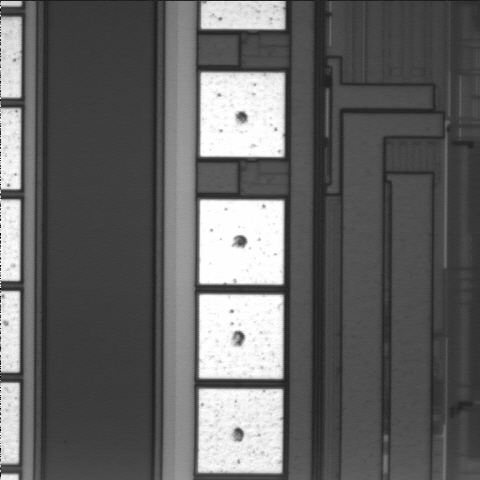pad: (200, 72, 285, 157), (199, 200, 284, 285), (199, 294, 283, 379), (198, 389, 283, 473)
